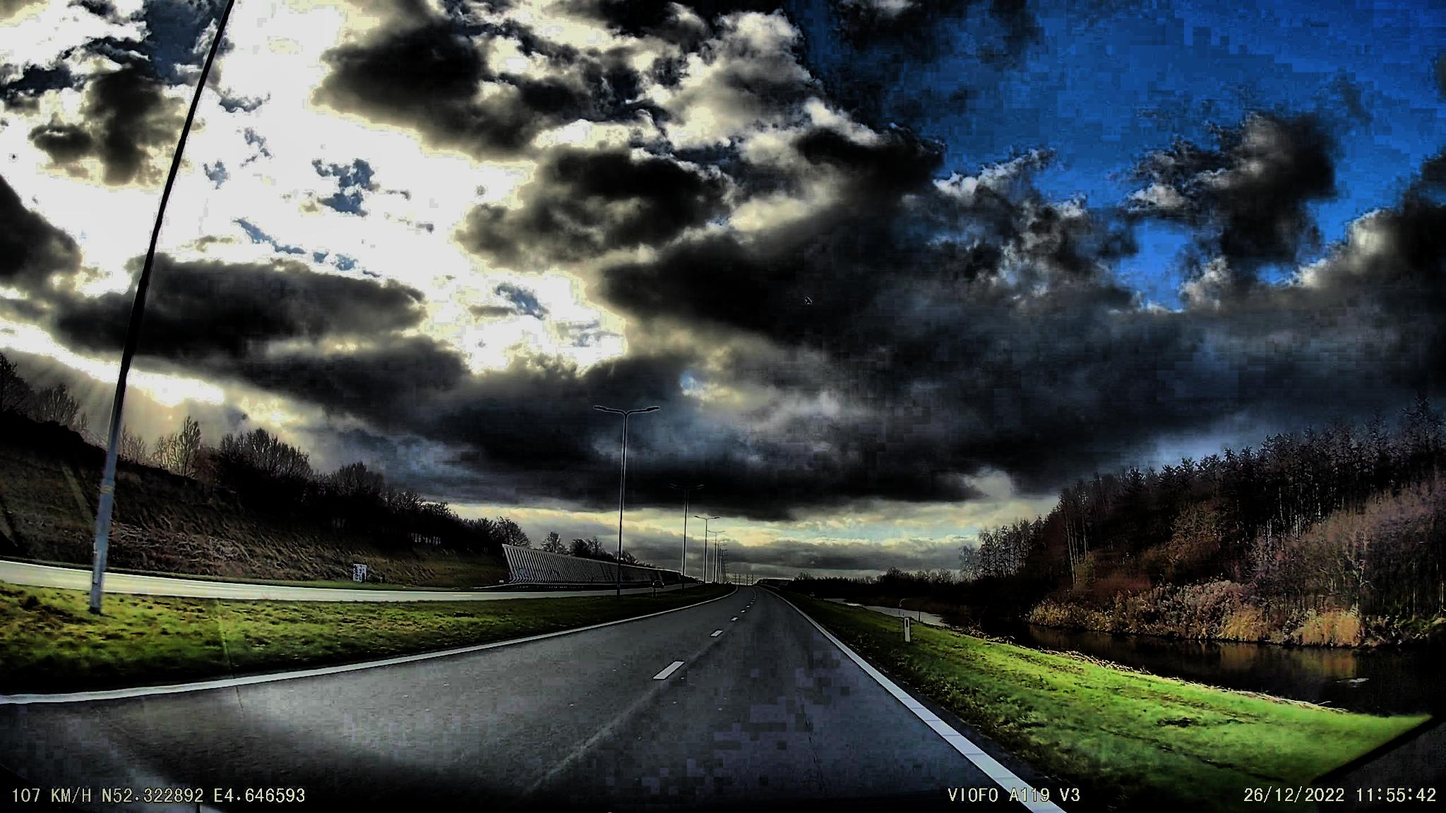Roads: (0, 587, 1105, 813)
